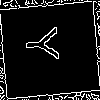Y: (24, 24, 68, 63)
